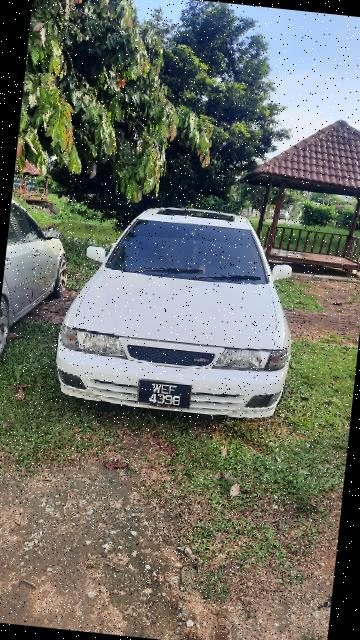License_Plate: (134, 376, 195, 414)
car: (44, 184, 308, 435)
